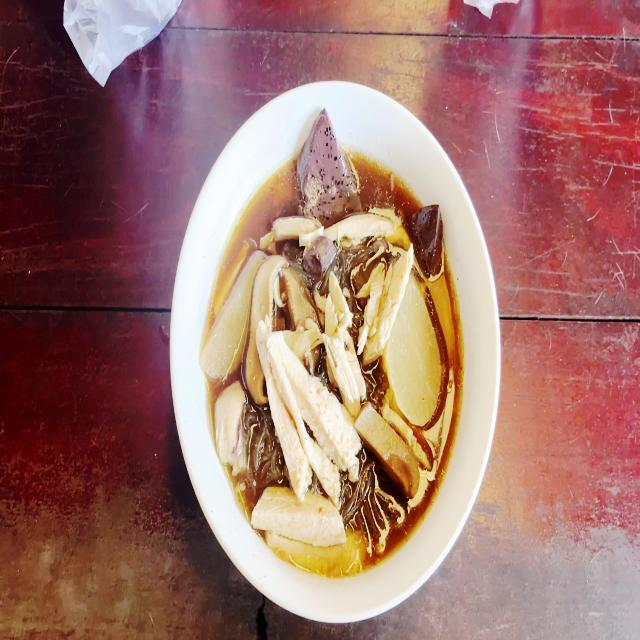boiled_chicken_blood_jelly: (298, 113, 355, 211), (414, 206, 444, 276), (304, 234, 333, 266)
chicken_shredded: (258, 322, 358, 492), (361, 247, 416, 365), (327, 278, 370, 414), (247, 490, 350, 541), (213, 388, 248, 468), (329, 209, 402, 244), (267, 218, 323, 245)
daikon_radish: (391, 294, 439, 423), (202, 256, 252, 373)
noodle: (206, 150, 464, 569)
